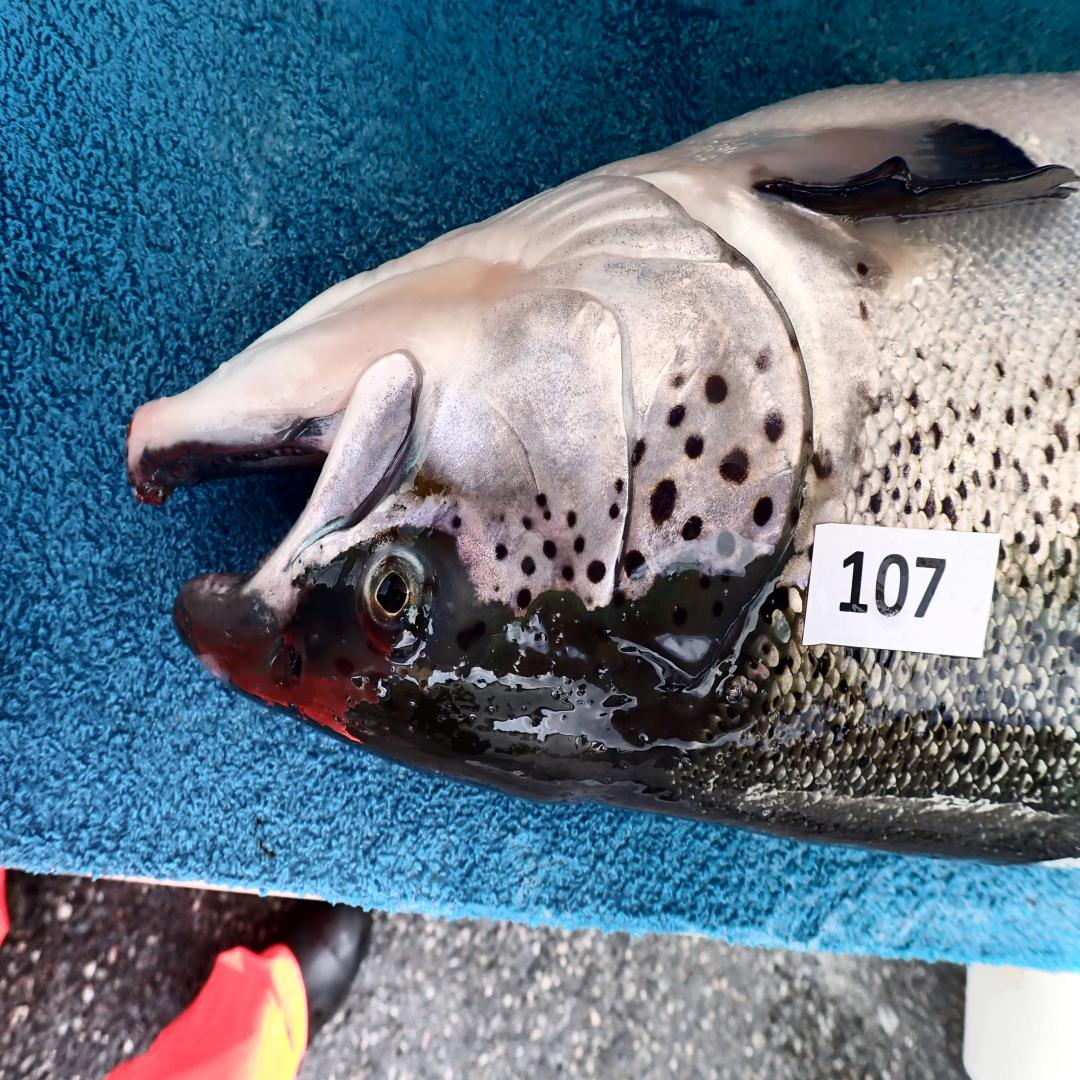spot: (650, 478, 677, 523), (719, 447, 749, 484), (764, 411, 785, 442), (705, 374, 728, 402), (624, 551, 645, 579), (753, 498, 772, 526), (717, 532, 736, 557), (681, 518, 702, 540), (686, 436, 705, 458), (586, 560, 605, 582), (669, 405, 686, 428), (756, 348, 771, 371), (633, 439, 645, 464), (517, 588, 532, 608), (521, 557, 536, 577), (542, 540, 557, 560), (582, 593, 599, 610), (561, 565, 574, 582), (496, 543, 508, 560), (574, 537, 584, 554), (610, 503, 620, 520), (521, 515, 532, 529), (536, 492, 546, 506), (673, 374, 683, 388), (453, 517, 463, 530), (567, 512, 576, 526), (616, 478, 623, 492), (498, 512, 506, 523), (544, 509, 551, 520), (494, 582, 500, 593), (454, 502, 457, 507), (443, 502, 447, 505)
